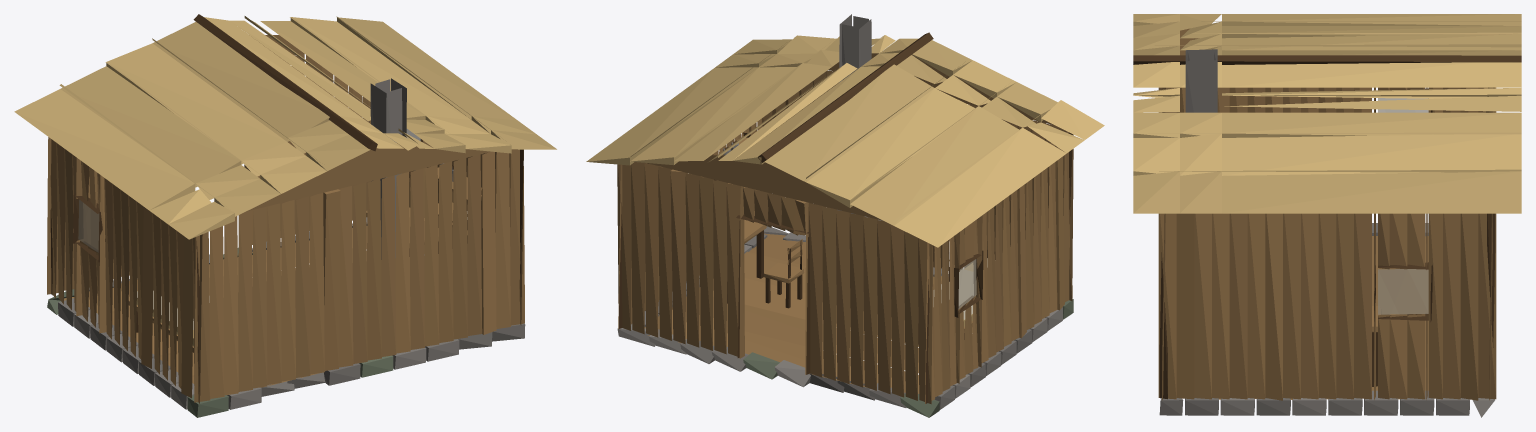
File: SM_CASA_01_CHOZA_MEDIA.glb
3 views of the same model, side by side, from view 1: azimuth 30°, elevation 25°; view 2: azimuth 150°, elevation 25°; view 3: azimuth 270°, elevation 25° (orthographic). The views are drawn at different scales.
Visible parts, largest first — view 1: SM_Pared_Norte, SM_Techo_Izq, SM_Pared_Oeste, SM_Techo_Der, SM_Cimiento_Piedra, SM_Pared_Sur, SM_Hogar, SM_Cumbrera, SM_Suelo, SM_Pared_Este; view 2: SM_Pared_Sur, SM_Techo_Izq, SM_Pared_Oeste, SM_Techo_Der, SM_Suelo, SM_Cimiento_Piedra, SM_Pared_Norte, SM_Cumbrera, SM_Hogar, SM_Silla, SM_Pared_Este, SM_Mesa (+1 smaller); view 3: SM_Pared_Este, SM_Techo_Der, SM_Techo_Izq, SM_Cimiento_Piedra, SM_Pared_Oeste, SM_Cumbrera, SM_Suelo, SM_Hogar, SM_Pared_Norte, SM_Pared_Sur.
Boxes of the visible parts, left/top/right/bottom form: SM_Pared_Norte: left=194, top=143, right=524, bottom=402; SM_Techo_Izq: left=14, top=22, right=370, bottom=239; SM_Pared_Oeste: left=50, top=139, right=202, bottom=403; SM_Techo_Der: left=204, top=16, right=556, bottom=153; SM_Cimiento_Piedra: left=47, top=217, right=525, bottom=417; SM_Pared_Sur: left=47, top=35, right=370, bottom=295; SM_Hogar: left=370, top=78, right=406, bottom=259; SM_Cumbrera: left=193, top=14, right=377, bottom=151; SM_Suelo: left=64, top=226, right=367, bottom=387; SM_Pared_Este: left=406, top=129, right=523, bottom=325; SM_Pared_Sur: left=617, top=155, right=932, bottom=404; SM_Techo_Izq: left=764, top=40, right=1104, bottom=247; SM_Pared_Oeste: left=925, top=131, right=1072, bottom=403; SM_Techo_Der: left=586, top=35, right=918, bottom=165; SM_Suelo: left=644, top=233, right=972, bottom=393; SM_Cimiento_Piedra: left=617, top=226, right=1073, bottom=417; SM_Pared_Norte: left=762, top=53, right=1073, bottom=300; SM_Cumbrera: left=758, top=32, right=933, bottom=163; SM_Hogar: left=837, top=14, right=882, bottom=220; SM_Silla: left=763, top=239, right=804, bottom=308; SM_Pared_Este: left=618, top=118, right=762, bottom=328; SM_Mesa: left=727, top=220, right=766, bottom=303; SM_Pared_Este: left=1158, top=213, right=1496, bottom=400; SM_Techo_Der: left=1133, top=62, right=1521, bottom=213; SM_Techo_Izq: left=1133, top=14, right=1521, bottom=55; SM_Cimiento_Piedra: left=1159, top=223, right=1494, bottom=417; SM_Pared_Oeste: left=1158, top=28, right=1495, bottom=112; SM_Cumbrera: left=1133, top=55, right=1521, bottom=64; SM_Suelo: left=1182, top=236, right=1428, bottom=399; SM_Hogar: left=1185, top=49, right=1217, bottom=112; SM_Pared_Norte: left=1159, top=87, right=1168, bottom=400; SM_Pared_Sur: left=1486, top=87, right=1496, bottom=400.
Size of the model in its own units: 5.6 by 3.88 by 4.6.
